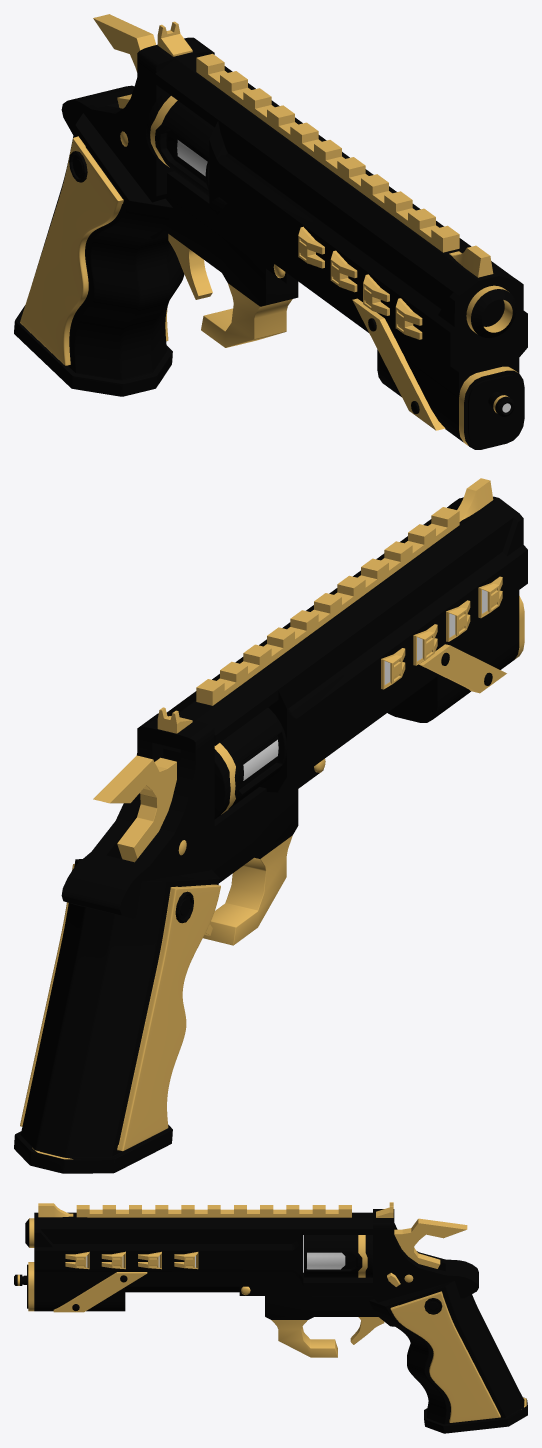
Rendered from arins gun .fbx.
3 renders of one model, top to bottom at view 1: azimuth 30°, elevation 25°; view 2: azimuth 150°, elevation 25°; view 3: azimuth 270°, elevation 25°, orthographic. The views are drawn at different scales.
Parts seen in each view (by area): view 1: Cube, Cube.007; view 2: Cube.007, Cube; view 3: Cube, Cube.007.
Part boxes in pixels (box(x1,y1,x2,y2)): Cube: box(146, 53, 527, 449); Cube.007: box(14, 14, 298, 396); Cube.007: box(14, 707, 325, 1173); Cube: box(167, 478, 527, 819); Cube: box(14, 1203, 373, 1312); Cube.007: box(239, 1202, 527, 1433).
Bounding box in the file's own units: 50.24 × 170 × 363.
